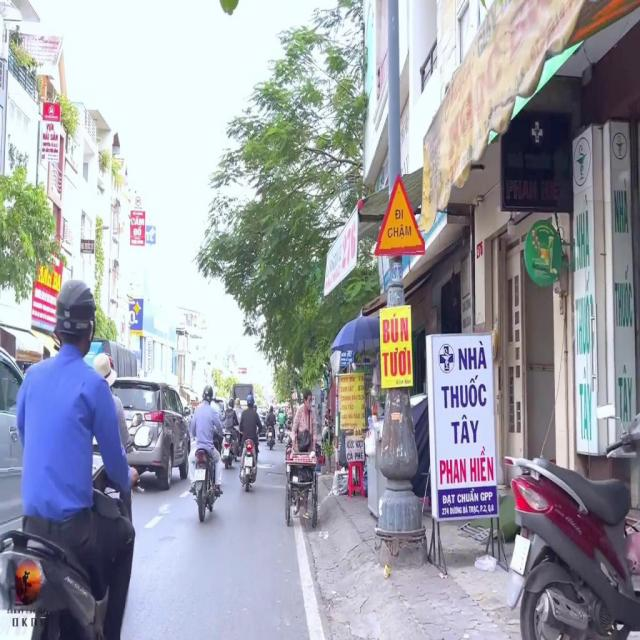di_cham: (372, 175, 425, 256)
